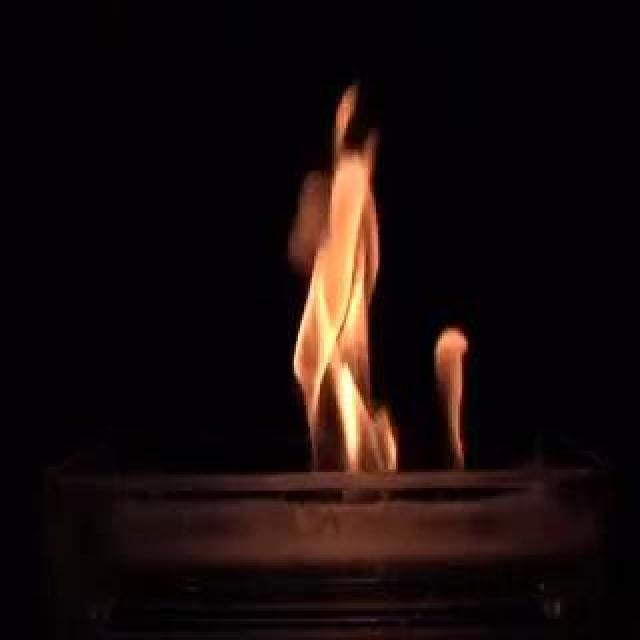Fire: (296, 98, 399, 478), (429, 332, 482, 477)
